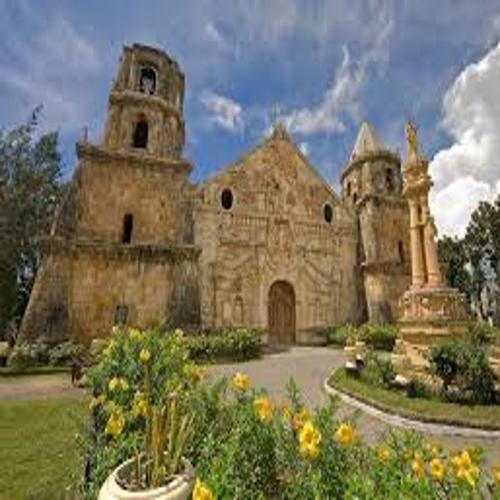Miagao Church: (21, 31, 449, 353)
